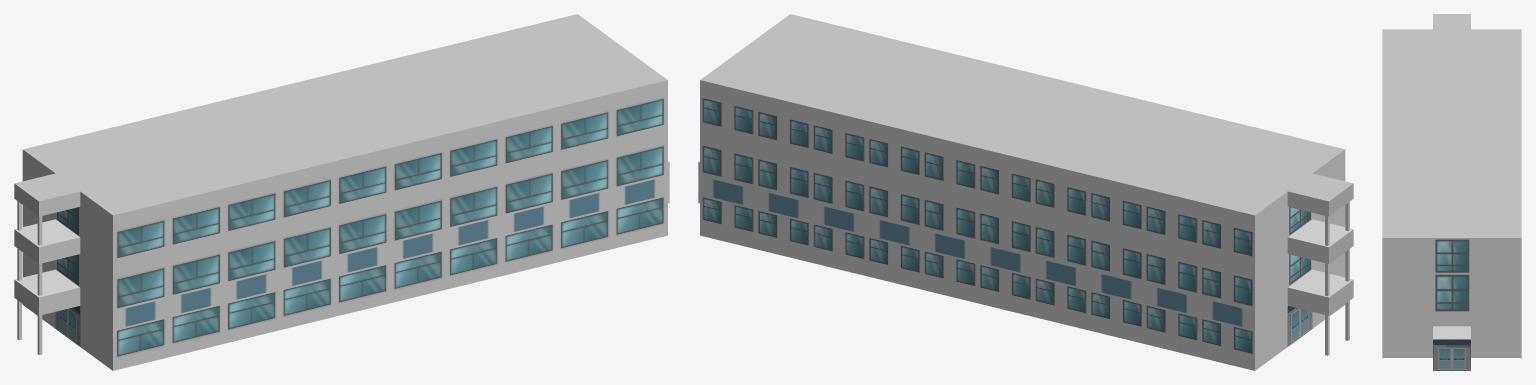
File: building_west.fbx
3 renders of one model, left to right at view 1: azimuth 30°, elevation 25°; view 2: azimuth 150°, elevation 25°; view 3: azimuth 270°, elevation 25°, orthographic. The views are drawn at different scales.
Parts seen in each view (by area): view 1: building_west; view 2: building_west; view 3: building_west.
Part boxes in pixels (x1=…): building_west: x1=14, y1=14, x2=669, y2=370; building_west: x1=698, y1=14, x2=1353, y2=370; building_west: x1=1382, y1=14, x2=1521, y2=370.
Size of the model in its own units: 5.26 by 1.24 by 1.31.
Materials: 1 (1 with a texture image).
